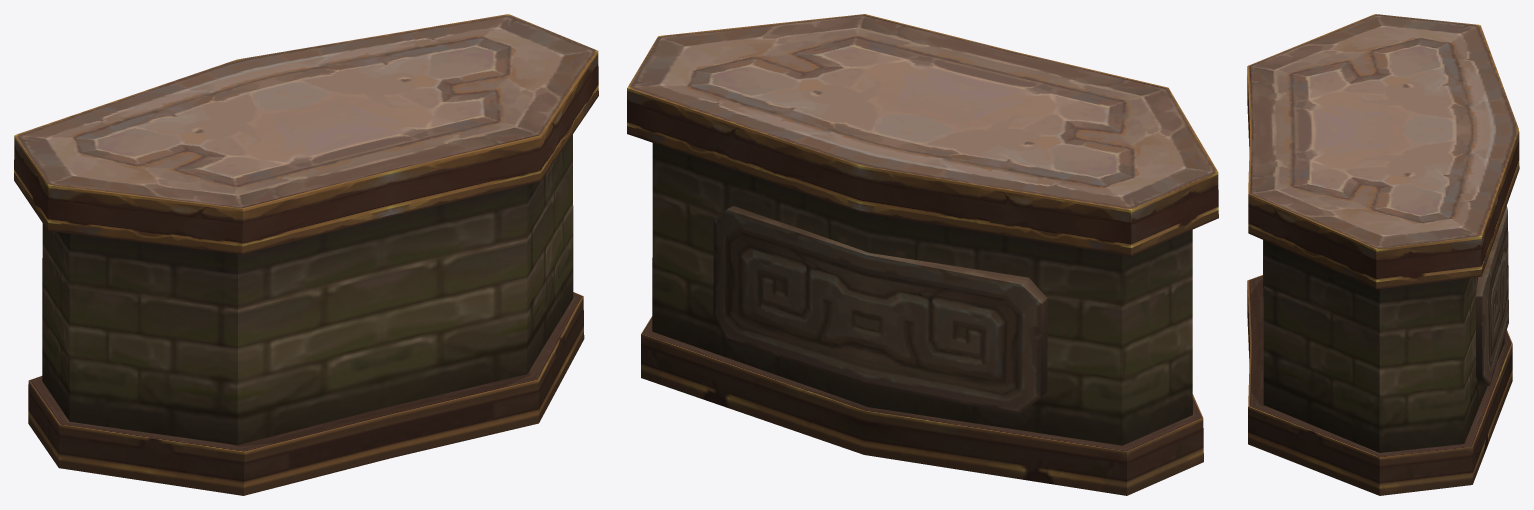
File: fb_jjc_zj_05_b.FBX
3 views of the same model, side by side, from view 1: azimuth 30°, elevation 25°; view 2: azimuth 150°, elevation 25°; view 3: azimuth 270°, elevation 25° (orthographic). The views are drawn at different scales.
Visible parts, largest first — view 1: fb_jjc_zj_05_b; view 2: fb_jjc_zj_05_b; view 3: fb_jjc_zj_05_b.
Part boxes in pixels (x1=…): fb_jjc_zj_05_b: x1=14, y1=14, x2=598, y2=495; fb_jjc_zj_05_b: x1=627, y1=14, x2=1218, y2=495; fb_jjc_zj_05_b: x1=1247, y1=14, x2=1519, y2=495.
Bounding box in the file's own units: 883 × 439 × 430.
